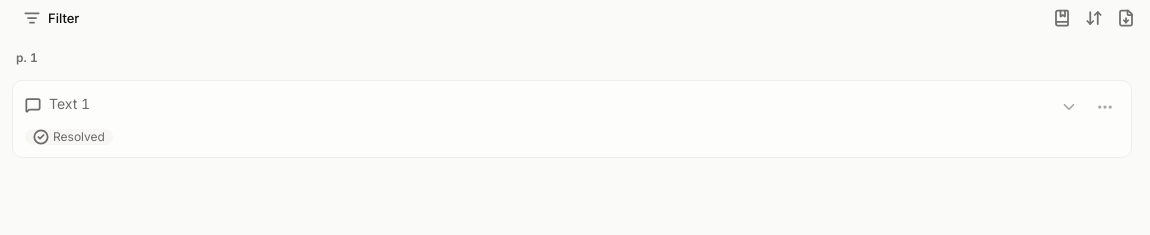
Comments cards › expands a done card from its excerpt line and back
Expected: the element showing "Text 1 Resolved" is shown, [12,80,1132,158]
Expected: the button "Reply" is not shown
Click the button named "Show comment" at (1069, 107), box [1055,93,1083,121]
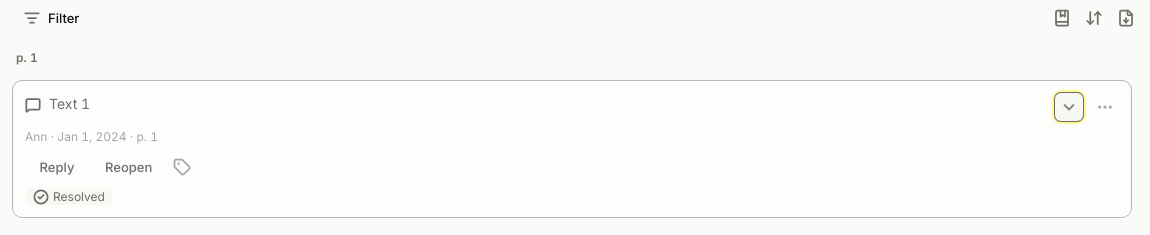
Expected: the element showing "Text 1 Ann · Jan 1, 2024 · p. 1 Reply Reopen Resolved" is shown, [12,80,1132,218]
Now the button "Reply" is shown, box [25,153,89,181]
Click the button named "Hide comment" at (1069, 107), box [1055,93,1083,121]
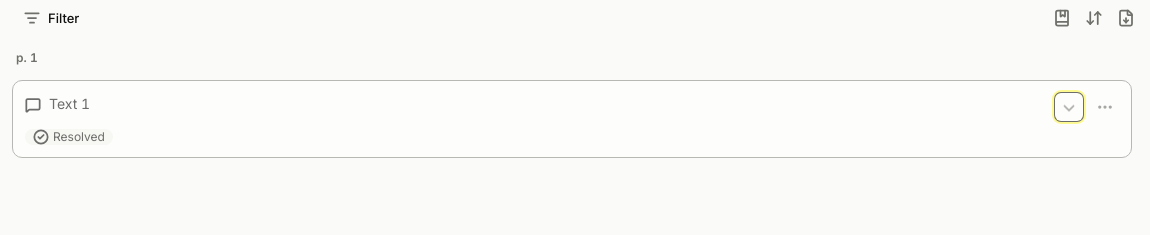
Now the button "Reply" is gone
